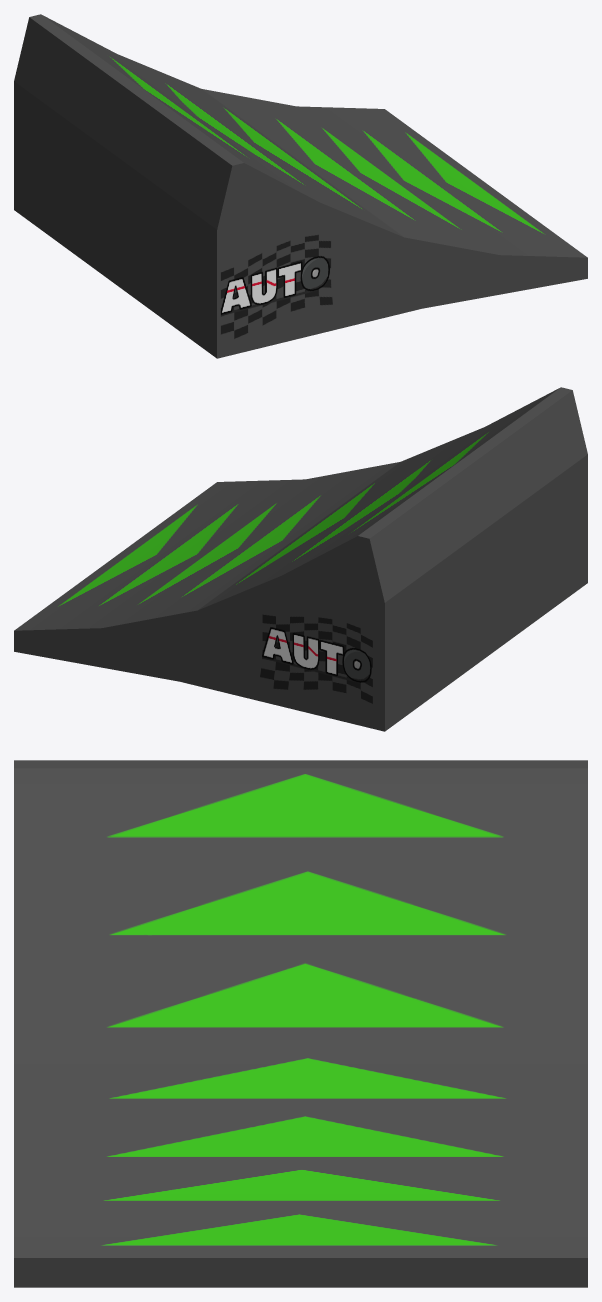
Rendered from ramp2.fbx.
The picture shows the model from 3 angles, top to bottom: view 1: azimuth 30°, elevation 25°; view 2: azimuth 150°, elevation 25°; view 3: azimuth 270°, elevation 25°; orthographic projection. The views are drawn at different scales.
Visible parts, largest first — view 1: pCube7; view 2: pCube7; view 3: pCube7.
Boxes of the visible parts, bbox=[...] form: pCube7: bbox=[14, 14, 587, 358]; pCube7: bbox=[14, 387, 587, 731]; pCube7: bbox=[14, 760, 587, 1287].
Size of the model in its own units: 5.62 by 2.89 by 5.33.
